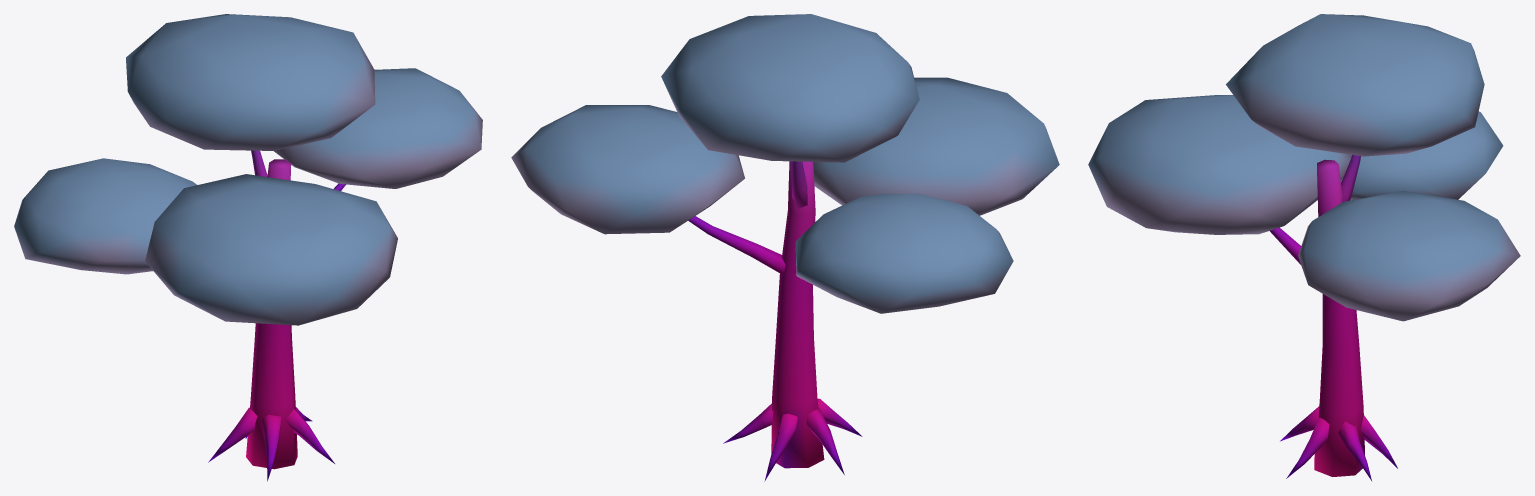
File: wood_tree.glb
3 views of the same model, side by side, from view 1: azimuth 30°, elevation 25°; view 2: azimuth 150°, elevation 25°; view 3: azimuth 270°, elevation 25° (orthographic). The views are drawn at different scales.
Parts seen in each view (by area): view 1: Canopy3, Canopy4, Canopy1, Canopy2, Trunk; view 2: Canopy4, Canopy1, Canopy2, Canopy3, Trunk; view 3: Canopy4, Canopy3, Canopy1, Trunk, Canopy2.
Part boxes in pixels (x1=…): Canopy3: x1=145, y1=174, x2=397, y2=325; Canopy4: x1=126, y1=14, x2=375, y2=150; Canopy1: x1=274, y1=68, x2=482, y2=188; Canopy2: x1=14, y1=158, x2=196, y2=274; Trunk: x1=208, y1=150, x2=345, y2=481; Canopy4: x1=661, y1=14, x2=919, y2=162; Canopy1: x1=511, y1=105, x2=744, y2=234; Canopy2: x1=795, y1=193, x2=1013, y2=313; Canopy3: x1=813, y1=77, x2=1059, y2=215; Trunk: x1=688, y1=161, x2=862, y2=481; Canopy4: x1=1226, y1=14, x2=1484, y2=156; Canopy3: x1=1088, y1=95, x2=1351, y2=234; Canopy1: x1=1298, y1=190, x2=1520, y2=321; Trunk: x1=1270, y1=155, x2=1397, y2=480; Canopy2: x1=1340, y1=111, x2=1503, y2=200.
Size of what is drawn, in the model's own units: 8.2 by 7.3 by 6.74.
